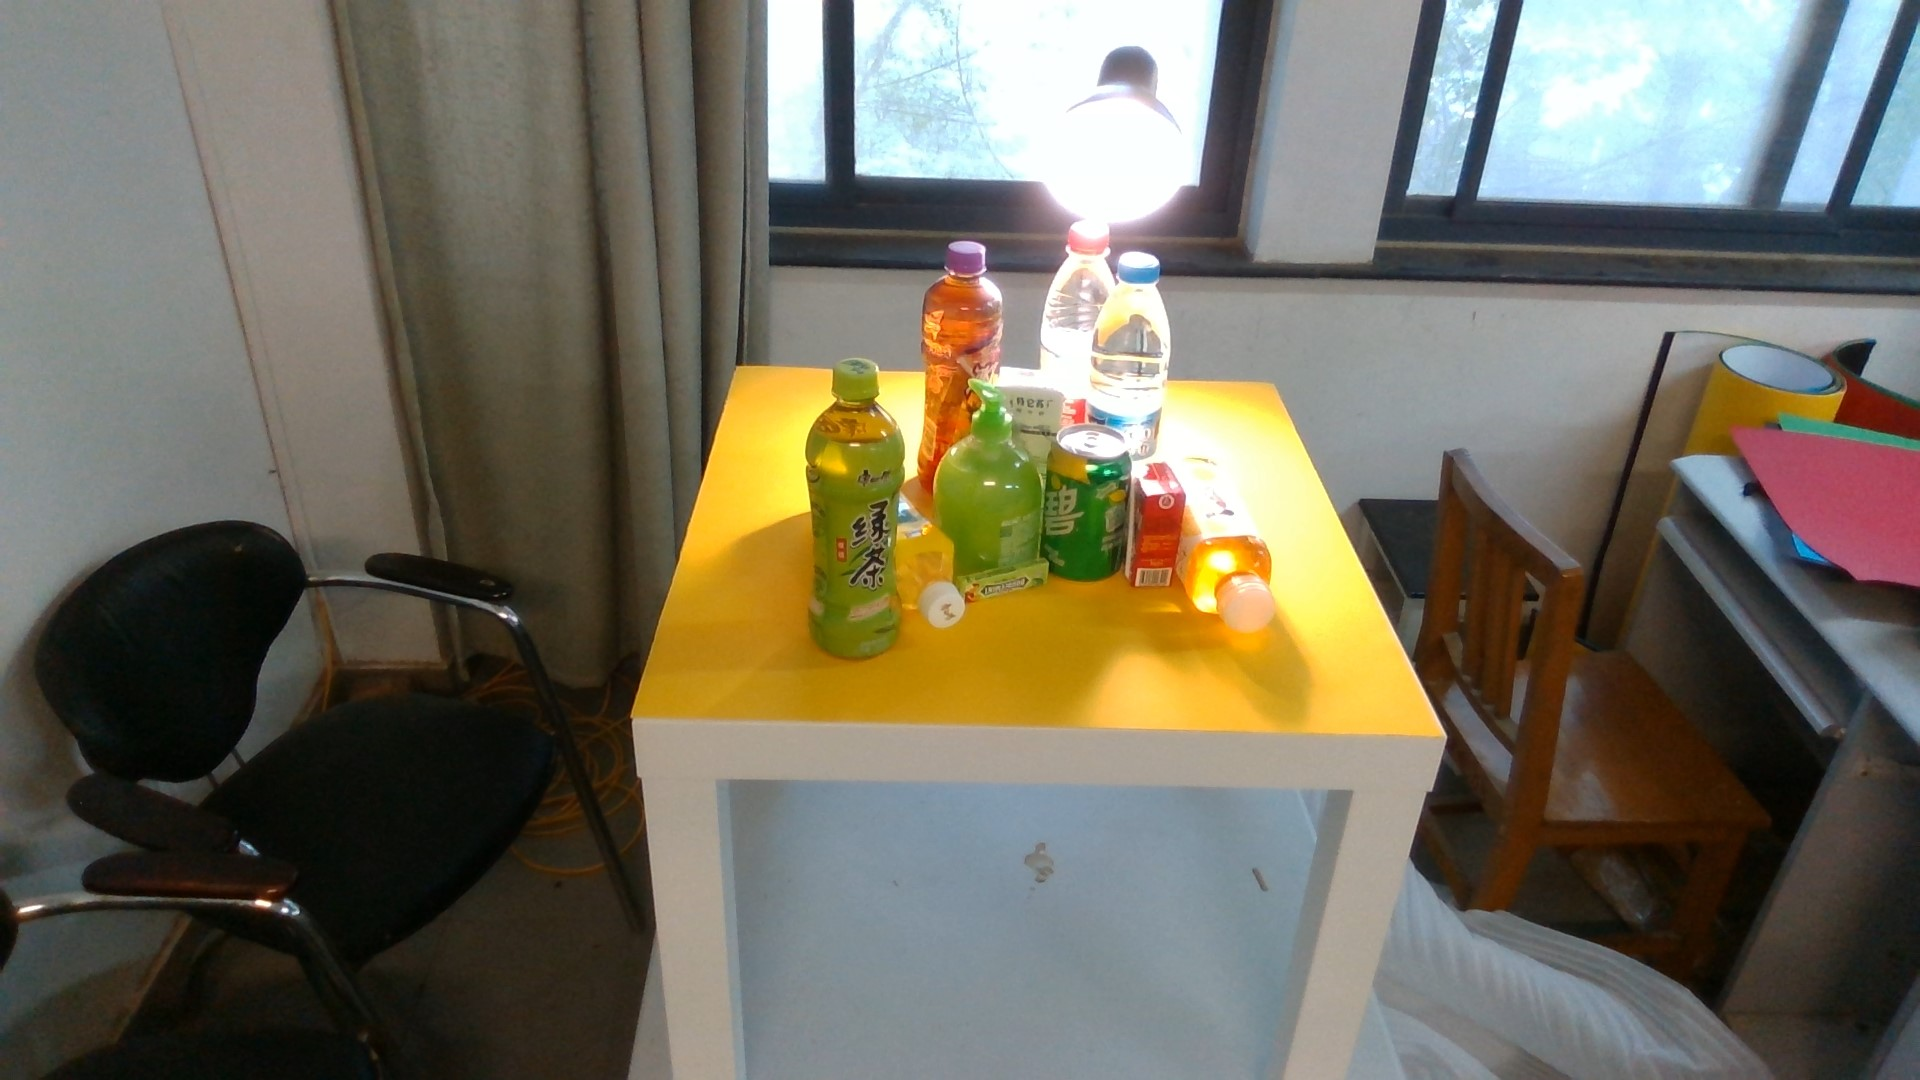BB002: (959, 560, 1048, 607)
BB010: (1011, 369, 1065, 435)
BB012: (1125, 462, 1180, 589)
ZA002: (957, 440, 1044, 562)
ZC001: (1047, 427, 1127, 580)
ZC009: (922, 241, 1007, 375)
ZC010: (808, 360, 905, 662)
ZC011: (897, 496, 959, 628)
ZC012: (1178, 454, 1273, 636)
ZC014: (1038, 223, 1084, 367)
ZC019: (1091, 251, 1172, 425)
